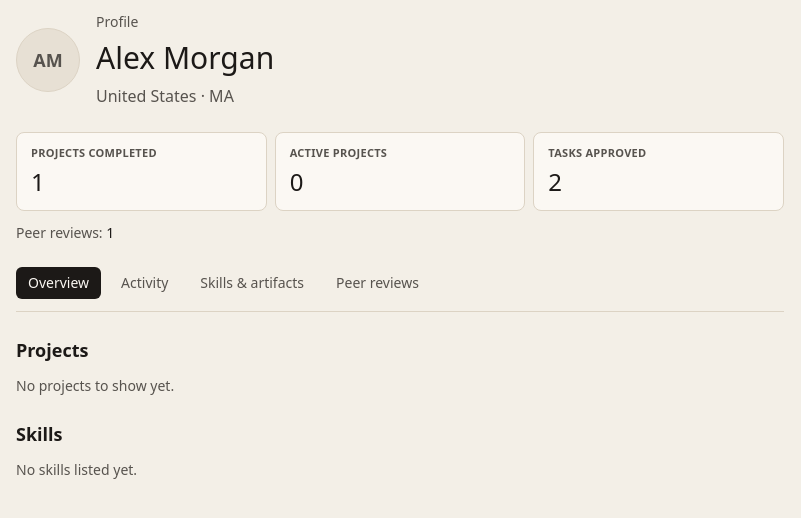
Test case: PublicProfilePage › opens the peer reviews tab with an anonymized public list
expect the heading "Alex Morgan" is shown: met, box [96,40,274,76]
expect the text "AM" is shown: met, box [33,46,63,74]
Step 1. Click the button "Peer reviews" → (377, 282), box [324,266,431,298]
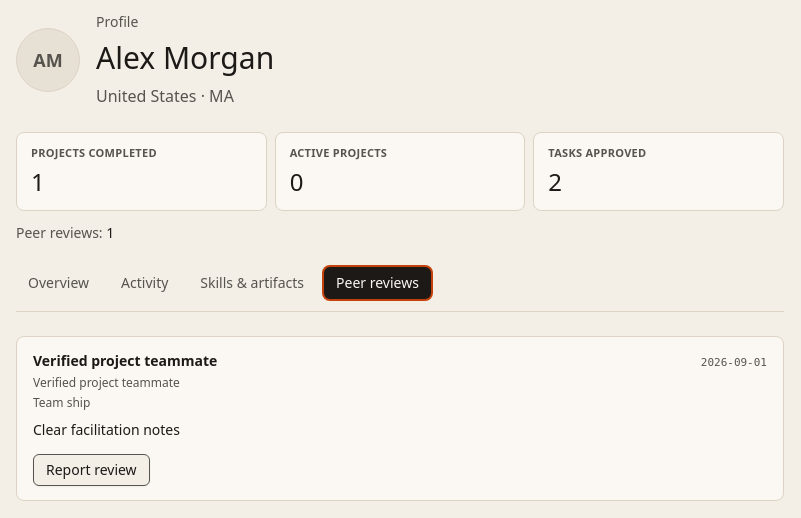
expect the text "Clear facilitation notes" is shown: met, box [33,420,180,439]
expect the text "Verified project teammate" in the row of "2026-09-01" is shown: met, box [33,350,217,370]
expect the button "Report review" is shown: met, box [33,454,150,486]
